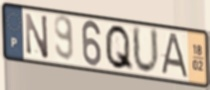6: (81, 20, 103, 69)
9: (53, 14, 75, 66)
A: (158, 32, 190, 81)
N: (24, 11, 50, 62)
Q: (104, 23, 135, 73)
U: (130, 24, 161, 77)
